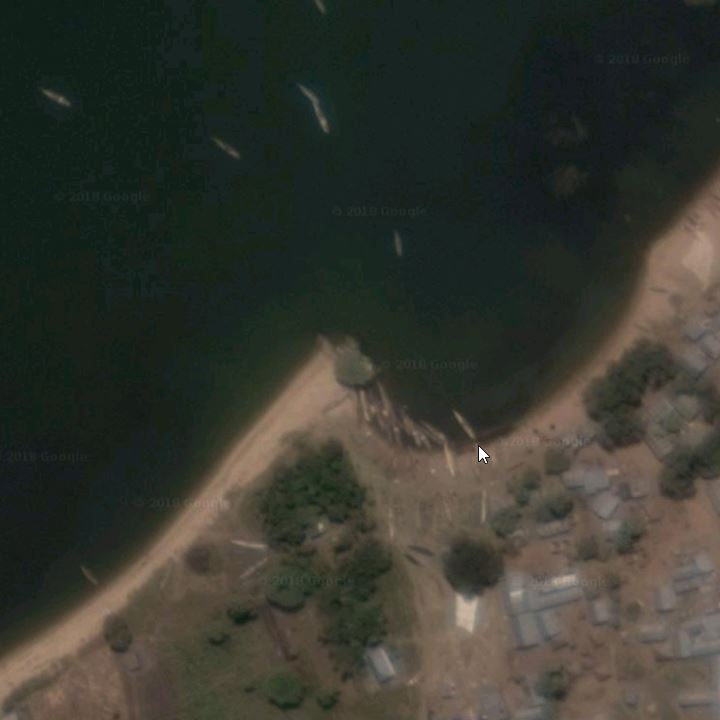boat: (205, 124, 248, 167), (36, 82, 79, 113), (293, 74, 327, 113), (452, 400, 481, 443), (366, 393, 390, 443), (239, 553, 274, 585), (74, 563, 106, 595), (309, 99, 333, 141), (380, 498, 400, 546), (439, 439, 461, 482), (375, 373, 396, 417), (355, 381, 373, 431), (425, 417, 448, 455), (412, 420, 436, 455), (157, 555, 176, 599), (229, 537, 274, 555), (406, 416, 424, 460), (386, 225, 407, 261), (388, 417, 408, 454), (405, 540, 438, 561), (476, 485, 491, 527), (312, 1, 334, 23), (401, 551, 424, 571)
